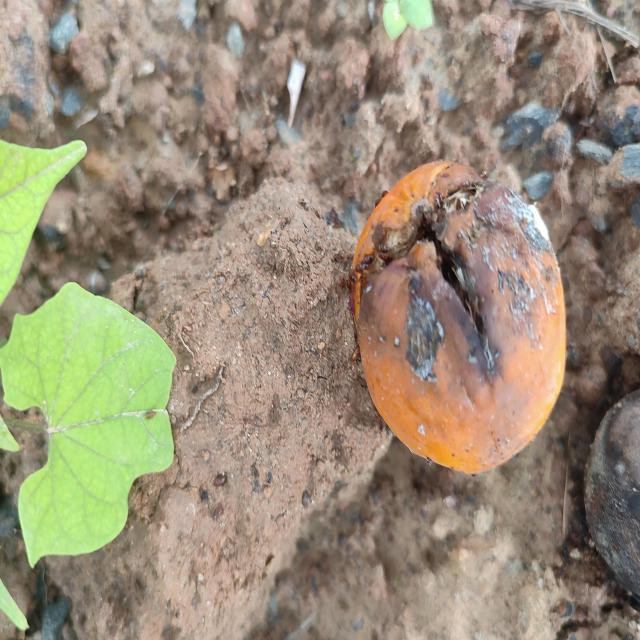damaged: (346, 160, 567, 478)
